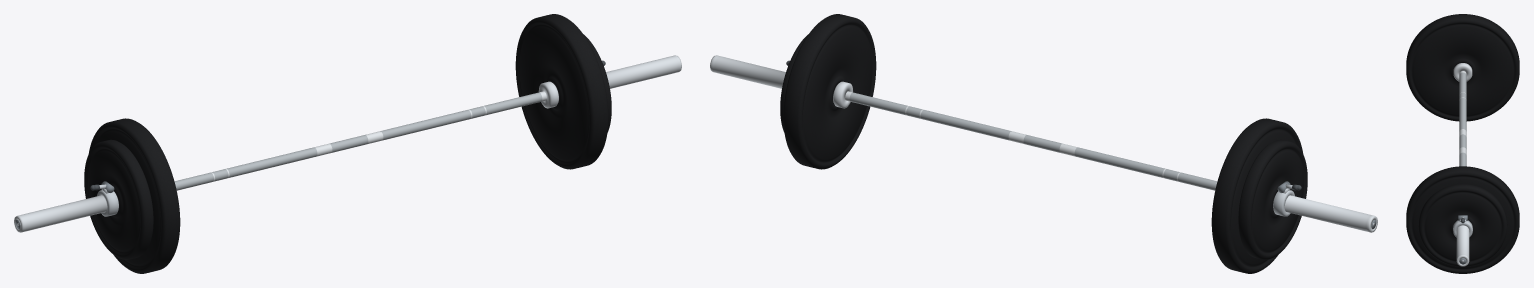
File: olympic_barbell_four_weight_plates.glb
The picture shows the model from 3 angles, left to right: view 1: azimuth 30°, elevation 25°; view 2: azimuth 150°, elevation 25°; view 3: azimuth 270°, elevation 25°; orthographic projection. The views are drawn at different scales.
Parts seen in each view (by area): view 1: RightInnerPlate_Rubber, LeftOuterPlate_Rubber, LeftInnerPlate_Rubber, Bar_Knurl, RightSleeve_Sleeve, LeftSleeve_Sleeve, Bar_Steel, RightOuterPlate_Rubber; view 2: RightInnerPlate_Rubber, LeftOuterPlate_Rubber, LeftInnerPlate_Rubber, Bar_Knurl, RightSleeve_Sleeve, LeftSleeve_Sleeve, Bar_Steel, RightOuterPlate_Rubber; view 3: LeftInnerPlate_Rubber, RightOuterPlate_Rubber, RightInnerPlate_Rubber, Bar_Knurl, RightSleeve_Sleeve, LeftSleeve_Sleeve, RightCollar_Collar, Bar_Steel.
Part boxes in pixels (<box>): RightInnerPlate_Rubber: <box>515,14,608,169</box>; LeftOuterPlate_Rubber: <box>84,139,153,259</box>; LeftInnerPlate_Rubber: <box>88,118,180,273</box>; Bar_Knurl: <box>174,92,542,190</box>; RightSleeve_Sleeve: <box>538,55,681,108</box>; LeftSleeve_Sleeve: <box>14,195,107,232</box>; Bar_Steel: <box>211,91,546,181</box>; RightOuterPlate_Rubber: <box>583,34,611,132</box>; RightInnerPlate_Rubber: <box>783,14,876,169</box>; LeftOuterPlate_Rubber: <box>1238,139,1307,259</box>; LeftInnerPlate_Rubber: <box>1211,118,1303,273</box>; Bar_Knurl: <box>849,92,1217,190</box>; RightSleeve_Sleeve: <box>710,55,853,108</box>; LeftSleeve_Sleeve: <box>1284,195,1377,232</box>; Bar_Steel: <box>845,91,1180,181</box>; RightOuterPlate_Rubber: <box>780,34,808,132</box>; LeftInnerPlate_Rubber: <box>1406,14,1519,121</box>; RightOuterPlate_Rubber: <box>1418,184,1507,266</box>; RightInnerPlate_Rubber: <box>1406,166,1519,273</box>; Bar_Knurl: <box>1459,72,1466,166</box>; RightSleeve_Sleeve: <box>1456,225,1469,266</box>; LeftSleeve_Sleeve: <box>1453,63,1472,81</box>; RightCollar_Collar: <box>1453,216,1472,237</box>; Bar_Steel: <box>1459,71,1466,154</box>.
Bounding box in the file's own units: 2.2 × 0.45 × 0.45.
Materials: 8 (2 with a texture image).
